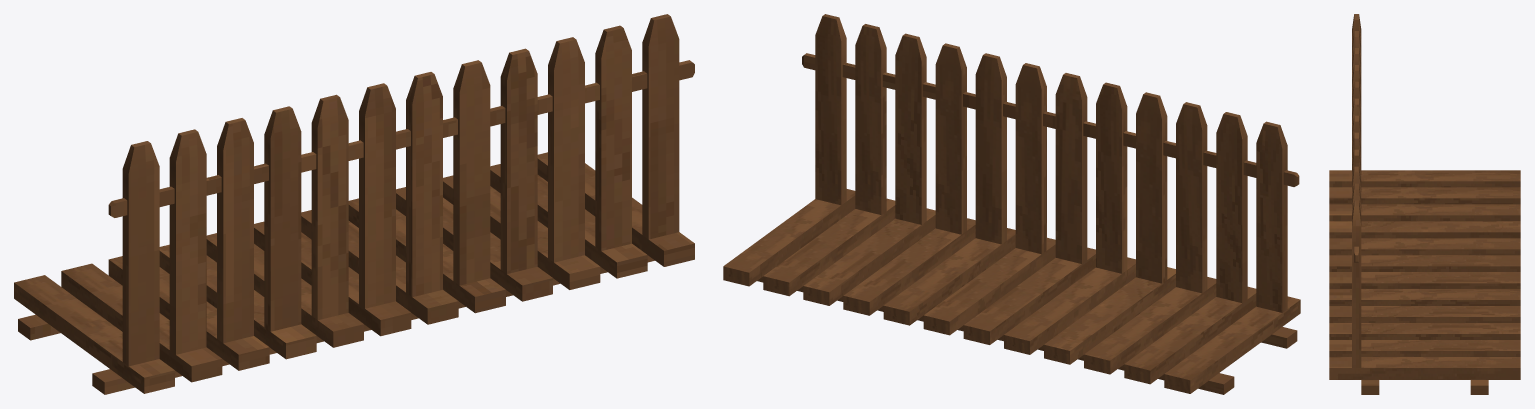
Rendered from Ponte.fbx.
3 views of the same model, side by side, from view 1: azimuth 30°, elevation 25°; view 2: azimuth 150°, elevation 25°; view 3: azimuth 270°, elevation 25° (orthographic). The views are drawn at different scales.
Visible parts, largest first — view 1: Plano; view 2: Plano; view 3: Plano.
Part boxes in pixels (bbox=[...]): Plano: bbox=[14, 14, 694, 394]; Plano: bbox=[723, 14, 1300, 394]; Plano: bbox=[1329, 14, 1520, 394].
Size of the model in its own units: 145 by 57.91 by 55.74.
